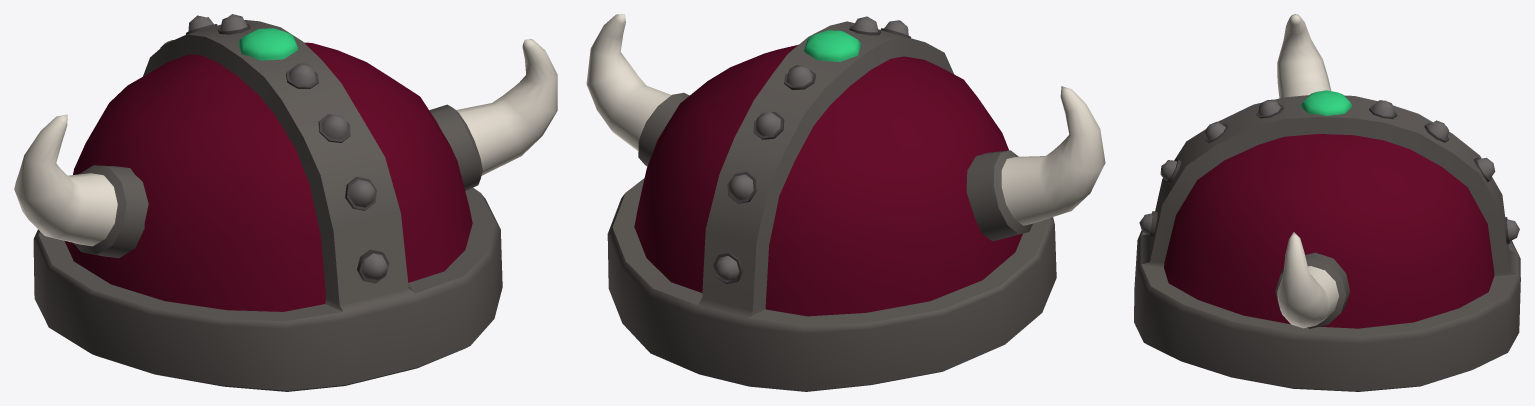
File: Hat_19_03.fbx
3 renders of one model, left to right at view 1: azimuth 30°, elevation 25°; view 2: azimuth 150°, elevation 25°; view 3: azimuth 270°, elevation 25°, orthographic. The views are drawn at different scales.
Parts seen in each view (by area): view 1: Hat_19_03; view 2: Hat_19_03; view 3: Hat_19_03.
Part boxes in pixels (x1=…): Hat_19_03: x1=14, y1=14, x2=557, y2=391; Hat_19_03: x1=586, y1=14, x2=1105, y2=391; Hat_19_03: x1=1134, y1=14, x2=1520, y2=391.
Size of the model in its own units: 55.57 by 27.61 by 41.99.
